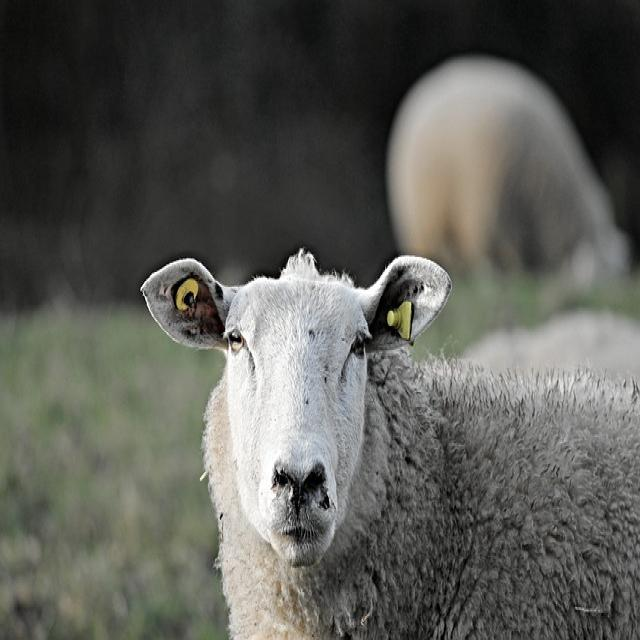goat: (142, 252, 640, 638)
